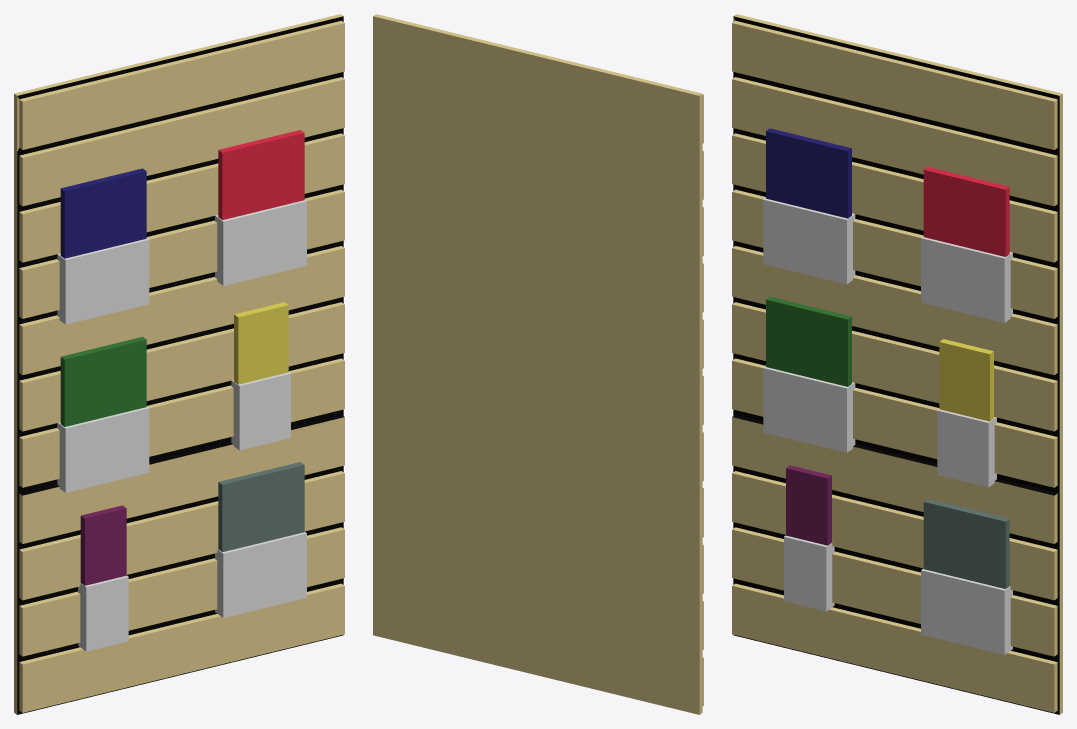
File: FlyerShelf.fbx
3 views of the same model, side by side, from view 1: azimuth 30°, elevation 25°; view 2: azimuth 150°, elevation 25°; view 3: azimuth 330°, elevation 25° (orthographic).
Parts seen in each view (by area): view 1: Cube.007; view 2: Cube.007; view 3: Cube.007.
Boxes of the visible parts, bbox=[...] form: Cube.007: bbox=[14, 14, 344, 714]; Cube.007: bbox=[373, 14, 703, 714]; Cube.007: bbox=[732, 14, 1062, 714].
Bounding box in the file's own units: 267 × 484 × 17.47.
